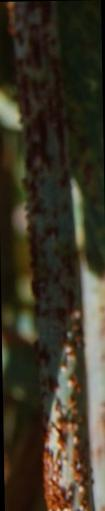Wheat: (24, 5, 55, 187), (38, 417, 86, 505), (37, 258, 76, 325), (39, 339, 78, 403), (32, 200, 74, 247)
